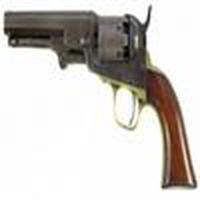gun: (3, 4, 200, 192)
